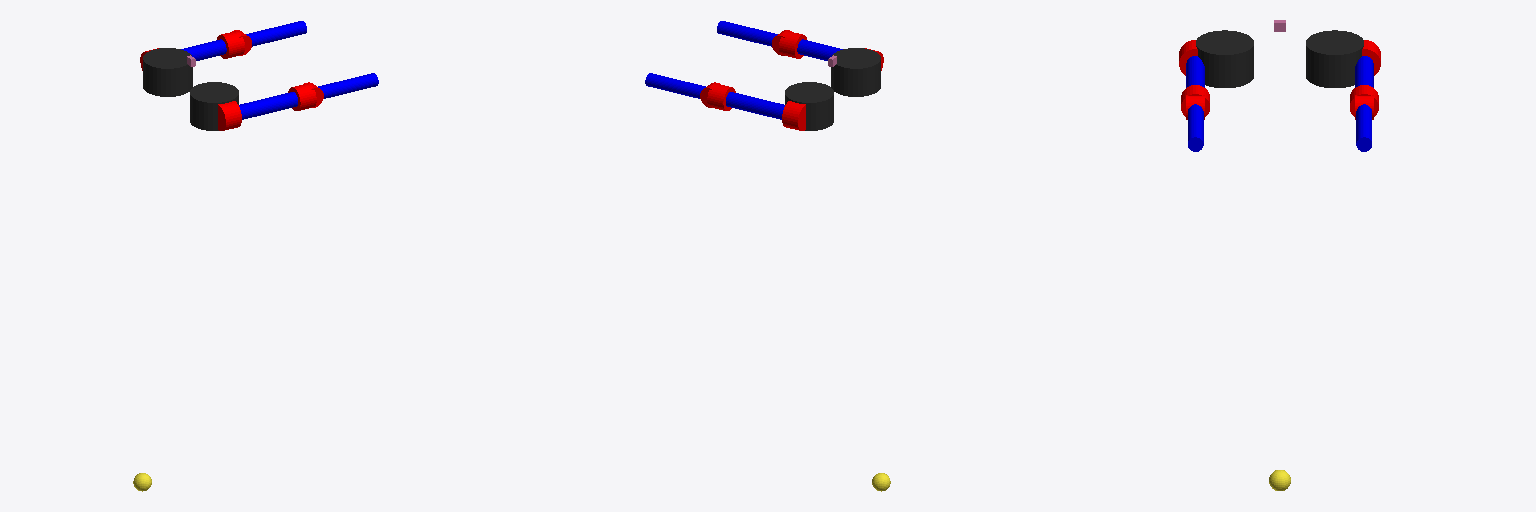
robot.urdf — mechelangelo_dual_arm:
<?xml version="1.0"?>
<robot name="mechelangelo_dual_arm">

  <!-- =========================
       MATERIALS
       ========================= -->
  <material name="red">
    <color rgba="1 0 0 1"/>
  </material>

  <material name="blue">
    <color rgba="0 0 1 1"/>
  </material>

  <material name="dark_grey">
    <color rgba="0.2 0.2 0.2 1"/>
  </material>

  <!-- =========================
       BASE
       ========================= -->
  <link name="base_link">
    <visual>
      <origin xyz="0 0 0" rpy="0 0 0"/>
      <geometry>
        <mesh filename="package://mechelangelo_description/meshes/base/base.dae" scale="1 1 1"/>
      </geometry>
    </visual>

    <collision>
      <origin xyz="0 0 0.10" rpy="0 0 0"/>
      <geometry>
        <mesh filename="package://mechelangelo_description/meshes/base/base.dae" scale="1 1 1"/>
      </geometry>
    </collision>

    <inertial>
      <origin xyz="0 0 0.10" rpy="0 0 0"/>
      <mass value="12.0"/>
      <inertia ixx="0.30" ixy="0.0" ixz="0.0" iyy="0.40" iyz="0.0" izz="0.50"/>
    </inertial>
  </link>

  <link name="left_wheel_link">
    <visual>
      <origin xyz="0.11091 0.20103 0.075" rpy="0 0 0"/>
      <geometry>
        <mesh filename="package://mechelangelo_description/meshes/wheels/wheel.dae" scale="1 1 1"/>
      </geometry>
    </visual>

    <collision>
      <origin xyz="0 0 0" rpy="1.5708 0 0"/>
      <geometry>
        <cylinder radius="0.075" length="0.03"/>
      </geometry>
    </collision>

    <inertial>
      <origin xyz="0 0 0" rpy="0 0 0"/>
      <mass value="1.0"/>
      <inertia ixx="0.002" ixy="0.0" ixz="0.0" iyy="0.001" iyz="0.0" izz="0.002"/>
    </inertial>
  </link>

  <link name="right_wheel_link">
    <visual>
      <origin xyz="0.11091 -0.20103 0.075" rpy="0 0 0"/>
      <geometry>
        <mesh filename="package://mechelangelo_description/meshes/wheels/wheel.dae" scale="1 1 1"/>
      </geometry>
    </visual>

    <collision>
      <origin xyz="0 0 0" rpy="1.5708 0 0"/>
      <geometry>
        <cylinder radius="0.075" length="0.03"/>
      </geometry>
    </collision>

    <inertial>
      <origin xyz="0 0 0" rpy="0 0 0"/>
      <mass value="1.0"/>
      <inertia ixx="0.002" ixy="0.0" ixz="0.0" iyy="0.001" iyz="0.0" izz="0.002"/>
    </inertial>
  </link>

  <joint name="left_wheel_joint" type="continuous">
    <parent link="base_link"/>
    <child link="left_wheel_link"/>
    <origin xyz="0 0 0" rpy="0 0 0"/>
    <axis xyz="0 1 0"/>
  </joint>

  <joint name="right_wheel_joint" type="continuous">
    <parent link="base_link"/>
    <child link="right_wheel_link"/>
    <origin xyz="0 0 0" rpy="0 0 0"/>
    <axis xyz="0 1 0"/>
  </joint>

  <link name="caster_link">
    <visual>
      <origin xyz="0 0 0" rpy="0 0 0"/>
      <geometry>
        <sphere radius="0.03"/>
      </geometry>
    </visual>

    <collision>
      <origin xyz="0 0 0" rpy="0 0 0"/>
      <geometry>
        <sphere radius="0.03"/>
      </geometry>
    </collision>

    <inertial>
      <origin xyz="0 0 0" rpy="0 0 0"/>
      <mass value="0.2"/>
      <inertia ixx="0.0001" ixy="0.0" ixz="0.0" iyy="0.0001" iyz="0.0" izz="0.0001"/>
    </inertial>
  </link>

  <joint name="caster_joint" type="fixed">
    <parent link="base_link"/>
    <child link="caster_link"/>
    <origin xyz="-0.18 0.0 0.03" rpy="0 0 0"/>
  </joint>

  <joint name="scan_joint" type="fixed">
    <parent link="base_link"/>
    <child link="base_scan"/>
    <origin xyz="0 0 0.280" rpy="0 0 0"/>
  </joint>

  <link name="base_scan">
    <visual>
      <origin xyz="0 0 0" rpy="0 0 0"/>
      <geometry>
        <mesh filename="package://mechelangelo_description/meshes/sensors/lds.stl" scale="0.001 0.001 0.001"/>
      </geometry>
    </visual>
    <inertial>
      <origin xyz="0 0 0" rpy="0 0 0"/>
      <mass value="0.114"/>
      <inertia ixx="0.001" ixy="0.0" ixz="0.0" iyy="0.001" iyz="0.0" izz="0.001"/>
    </inertial>
  </link>

  <joint name="imu_joint" type="fixed">
    <parent link="base_link"/>
    <child link="imu_link"/>
    <origin xyz="0.0 0 0.068" rpy="0 0 0"/>
  </joint>

  <link name="imu_link">
    <inertial>
      <origin xyz="0 0 0" rpy="0 0 0"/>
      <mass value="0.01"/>
      <inertia ixx="0.00001" ixy="0.0" ixz="0.0" iyy="0.00001" iyz="0.0" izz="0.00001"/>
    </inertial>
  </link>

  <joint name="camera_joint" type="fixed">
    <origin xyz="0 0 1.480" rpy="0 0 0"/>
    <parent link="base_link"/>
    <child link="camera_link"/>
  </joint>

  <link name="camera_link">
    <visual>
      <origin xyz="0 0 0" rpy="0 0 0"/>
      <geometry>
        <box size="0.015 0.030 0.027"/>
      </geometry>
    </visual>
    <collision>
      <origin xyz="0 0 0" rpy="0 0 0"/>
      <geometry>
        <box size="0.015 0.030 0.027"/>
      </geometry>
    </collision>
    <inertial>
      <origin xyz="0 0 0" rpy="0 0 0"/>
      <mass value="0.05"/>
      <inertia ixx="0.00001" ixy="0.0" ixz="0.0" iyy="0.00001" iyz="0.0" izz="0.00001"/>
    </inertial>
  </link>

  <joint name="camera_rgb_joint" type="fixed">
    <origin xyz="0 0 0" rpy="0 0 0"/>
    <parent link="camera_link"/>
    <child link="camera_rgb_frame"/>
  </joint>
  <link name="camera_rgb_frame"/>

  <joint name="camera_rgb_optical_joint" type="fixed">
    <origin xyz="0 0 0" rpy="-1.5708 0 -1.5708"/>
    <parent link="camera_rgb_frame"/>
    <child link="camera_rgb_optical_frame"/>
  </joint>
  <link name="camera_rgb_optical_frame"/>
  <!-- =========================
       LEFT ARM MOUNT
       ========================= -->
  <joint name="left_arm_mount_joint" type="fixed">
    <parent link="base_link"/>
    <child link="left_arm_base_link"/>
    <origin xyz="0.0 0.15 1.38" rpy="0 0 0"/>
  </joint>

  <link name="left_arm_base_link">
    <visual>
      <origin xyz="0 0 0" rpy="0 0 0"/>
      <geometry>
        <cylinder radius="0.08" length="0.10"/>
      </geometry>
      <material name="dark_grey"/>
    </visual>
    <collision>
      <origin xyz="0 0 0" rpy="0 0 0"/>
      <geometry>
        <cylinder radius="0.08" length="0.10"/>
      </geometry>
    </collision>
    <inertial>
      <origin xyz="0 0 0" rpy="0 0 0"/>
      <mass value="2.0"/>
      <inertia ixx="0.01" ixy="0.0" ixz="0.0" iyy="0.01" iyz="0.0" izz="0.01"/>
    </inertial>
  </link>

  <link name="left_joint1_link">
    <visual>
      <origin xyz="0 0 0" rpy="0 0 0"/>
      <geometry>
        <cylinder radius="0.04" length="0.06"/>
      </geometry>
      <material name="red"/>
    </visual>
    <collision>
      <origin xyz="0 0 0" rpy="0 0 0"/>
      <geometry>
        <cylinder radius="0.04" length="0.06"/>
      </geometry>
    </collision>
    <inertial>
      <origin xyz="0 0 0" rpy="0 0 0"/>
      <mass value="0.30"/>
      <inertia ixx="0.0005" ixy="0.0" ixz="0.0" iyy="0.0005" iyz="0.0" izz="0.0003"/>
    </inertial>
  </link>

  <joint name="left_joint1" type="revolute">
    <parent link="left_arm_base_link"/>
    <child link="left_joint1_link"/>
    <origin xyz="0 0 0" rpy="0 0 0"/>
    <axis xyz="0 0 1"/>
    <limit lower="-3.1416" upper="3.1416" effort="20" velocity="1.5"/>
    <dynamics damping="0.1"/>
  </joint>

  <link name="left_joint2_link">
    <visual>
      <origin xyz="0 0 0" rpy="0 1.5708 0"/>
      <geometry>
        <cylinder radius="0.045" length="0.06"/>
      </geometry>
      <material name="red"/>
    </visual>
    <collision>
      <origin xyz="0 0 0" rpy="0 1.5708 0"/>
      <geometry>
        <cylinder radius="0.045" length="0.06"/>
      </geometry>
    </collision>
    <inertial>
      <origin xyz="0 0 0" rpy="0 0 0"/>
      <mass value="0.25"/>
      <inertia ixx="0.0004" ixy="0.0" ixz="0.0" iyy="0.0004" iyz="0.0" izz="0.0002"/>
    </inertial>
  </link>

  <joint name="left_joint2" type="revolute">
    <parent link="left_joint1_link"/>
    <child link="left_joint2_link"/>
    <origin xyz="0 0.08 0" rpy="0 0 0"/>
    <axis xyz="0 1 0"/>
    <limit lower="-3.1416" upper="0" effort="15" velocity="1.5"/>
    <dynamics damping="0.1"/>
  </joint>

  <link name="left_link1">
    <visual>
      <origin xyz="0 0 0" rpy="0 1.5708 0"/>
      <geometry>
        <cylinder radius="0.025" length="0.28"/>
      </geometry>
      <material name="blue"/>
    </visual>
    <collision>
      <origin xyz="0 0 0" rpy="0 1.5708 0"/>
      <geometry>
        <cylinder radius="0.025" length="0.28"/>
      </geometry>
    </collision>
    <inertial>
      <origin xyz="0 0 0" rpy="0 0 0"/>
      <mass value="0.35"/>
      <inertia ixx="0.0020" ixy="0.0" ixz="0.0" iyy="0.0020" iyz="0.0" izz="0.0002"/>
    </inertial>
  </link>

  <joint name="left_joint2_to_link1" type="fixed">
    <parent link="left_joint2_link"/>
    <child link="left_link1"/>
    <origin xyz="0.14 0 0" rpy="0 0 0"/>
  </joint>

  <link name="left_joint3_link">
    <visual>
      <origin xyz="0 0 0" rpy="0 1.5708 0"/>
      <geometry>
        <cylinder radius="0.04" length="0.06"/>
      </geometry>
      <material name="red"/>
    </visual>
    <collision>
      <origin xyz="0 0 0" rpy="0 1.5708 0"/>
      <geometry>
        <cylinder radius="0.04" length="0.06"/>
      </geometry>
    </collision>
    <inertial>
      <origin xyz="0 0 0" rpy="0 0 0"/>
      <mass value="0.20"/>
      <inertia ixx="0.0003" ixy="0.0" ixz="0.0" iyy="0.0003" iyz="0.0" izz="0.00015"/>
    </inertial>
  </link>

  <joint name="left_joint3" type="revolute">
    <parent link="left_link1"/>
    <child link="left_joint3_link"/>
    <origin xyz="0.14 0 0" rpy="0 0 0"/>
    <axis xyz="1 0 0"/>
    <limit lower="-3.1416" upper="3.1416" effort="10" velocity="1.5"/>
    <dynamics damping="0.1"/>
  </joint>

  <link name="left_joint4_link">
    <visual>
      <origin xyz="0 0 0" rpy="1.5708 0 0"/>
      <geometry>
        <cylinder radius="0.035" length="0.05"/>
      </geometry>
      <material name="red"/>
    </visual>
    <collision>
      <origin xyz="0 0 0" rpy="1.5708 0 0"/>
      <geometry>
        <cylinder radius="0.035" length="0.05"/>
      </geometry>
    </collision>
    <inertial>
      <origin xyz="0 0 0" rpy="0 0 0"/>
      <mass value="0.15"/>
      <inertia ixx="0.0002" ixy="0.0" ixz="0.0" iyy="0.0002" iyz="0.0" izz="0.0001"/>
    </inertial>
  </link>

  <joint name="left_joint4" type="revolute">
    <parent link="left_joint3_link"/>
    <child link="left_joint4_link"/>
    <origin xyz="0.03 0 0" rpy="0 0 0"/>
    <axis xyz="0 1 0"/>
    <limit lower="-1.57" upper="1.57" effort="8" velocity="1.5"/>
    <dynamics damping="0.05"/>
  </joint>

  <link name="left_link2">
    <visual>
      <origin xyz="0 0 0" rpy="0 1.5708 0"/>
      <geometry>
        <cylinder radius="0.022" length="0.24"/>
      </geometry>
      <material name="blue"/>
    </visual>
    <collision>
      <origin xyz="0 0 0" rpy="0 1.5708 0"/>
      <geometry>
        <cylinder radius="0.022" length="0.24"/>
      </geometry>
    </collision>
    <inertial>
      <origin xyz="0 0 0" rpy="0 0 0"/>
      <mass value="0.25"/>
      <inertia ixx="0.0010" ixy="0.0" ixz="0.0" iyy="0.0010" iyz="0.0" izz="0.0001"/>
    </inertial>
  </link>

  <joint name="left_joint4_to_link2" type="fixed">
    <parent link="left_joint4_link"/>
    <child link="left_link2"/>
    <origin xyz="0.12 0 0" rpy="0 0 0"/>
  </joint>

  <!-- =========================
       RIGHT ARM MOUNT
       ========================= -->
  <joint name="right_arm_mount_joint" type="fixed">
    <parent link="base_link"/>
    <child link="right_arm_base_link"/>
    <origin xyz="0.0 -0.15 1.38" rpy="0 0 0"/>
  </joint>

  <link name="right_arm_base_link">
    <visual>
      <origin xyz="0 0 0" rpy="0 0 0"/>
      <geometry>
        <cylinder radius="0.08" length="0.10"/>
      </geometry>
      <material name="dark_grey"/>
    </visual>
    <collision>
      <origin xyz="0 0 0" rpy="0 0 0"/>
      <geometry>
        <cylinder radius="0.08" length="0.10"/>
      </geometry>
    </collision>
    <inertial>
      <origin xyz="0 0 0" rpy="0 0 0"/>
      <mass value="2.0"/>
      <inertia ixx="0.01" ixy="0.0" ixz="0.0" iyy="0.01" iyz="0.0" izz="0.01"/>
    </inertial>
  </link>

  <link name="right_joint1_link">
    <visual>
      <origin xyz="0 0 0" rpy="0 0 0"/>
      <geometry>
        <cylinder radius="0.04" length="0.06"/>
      </geometry>
      <material name="red"/>
    </visual>
    <collision>
      <origin xyz="0 0 0" rpy="0 0 0"/>
      <geometry>
        <cylinder radius="0.04" length="0.06"/>
      </geometry>
    </collision>
    <inertial>
      <origin xyz="0 0 0" rpy="0 0 0"/>
      <mass value="0.30"/>
      <inertia ixx="0.0005" ixy="0.0" ixz="0.0" iyy="0.0005" iyz="0.0" izz="0.0003"/>
    </inertial>
  </link>

  <joint name="right_joint1" type="revolute">
    <parent link="right_arm_base_link"/>
    <child link="right_joint1_link"/>
    <origin xyz="0 0 0" rpy="0 0 0"/>
    <axis xyz="0 0 1"/>
    <limit lower="-3.1416" upper="3.1416" effort="20" velocity="1.5"/>
    <dynamics damping="0.1"/>
  </joint>

  <link name="right_joint2_link">
    <visual>
      <origin xyz="0 0 0" rpy="0 1.5708 0"/>
      <geometry>
        <cylinder radius="0.045" length="0.06"/>
      </geometry>
      <material name="red"/>
    </visual>
    <collision>
      <origin xyz="0 0 0" rpy="0 1.5708 0"/>
      <geometry>
        <cylinder radius="0.045" length="0.06"/>
      </geometry>
    </collision>
    <inertial>
      <origin xyz="0 0 0" rpy="0 0 0"/>
      <mass value="0.25"/>
      <inertia ixx="0.0004" ixy="0.0" ixz="0.0" iyy="0.0004" iyz="0.0" izz="0.0002"/>
    </inertial>
  </link>

  <joint name="right_joint2" type="revolute">
    <parent link="right_joint1_link"/>
    <child link="right_joint2_link"/>
    <origin xyz="0 -0.08 0" rpy="0 0 0"/>
    <axis xyz="0 1 0"/>
    <limit lower="-3.1416" upper="0" effort="15" velocity="1.5"/>
    <dynamics damping="0.1"/>
  </joint>

  <link name="right_link1">
    <visual>
      <origin xyz="0 0 0" rpy="0 1.5708 0"/>
      <geometry>
        <cylinder radius="0.025" length="0.28"/>
      </geometry>
      <material name="blue"/>
    </visual>
    <collision>
      <origin xyz="0 0 0" rpy="0 1.5708 0"/>
      <geometry>
        <cylinder radius="0.025" length="0.28"/>
      </geometry>
    </collision>
    <inertial>
      <origin xyz="0 0 0" rpy="0 0 0"/>
      <mass value="0.35"/>
      <inertia ixx="0.0020" ixy="0.0" ixz="0.0" iyy="0.0020" iyz="0.0" izz="0.0002"/>
    </inertial>
  </link>

  <joint name="right_joint2_to_link1" type="fixed">
    <parent link="right_joint2_link"/>
    <child link="right_link1"/>
    <origin xyz="0.14 0 0" rpy="0 0 0"/>
  </joint>

  <link name="right_joint3_link">
    <visual>
      <origin xyz="0 0 0" rpy="0 1.5708 0"/>
      <geometry>
        <cylinder radius="0.04" length="0.06"/>
      </geometry>
      <material name="red"/>
    </visual>
    <collision>
      <origin xyz="0 0 0" rpy="0 1.5708 0"/>
      <geometry>
        <cylinder radius="0.04" length="0.06"/>
      </geometry>
    </collision>
    <inertial>
      <origin xyz="0 0 0" rpy="0 0 0"/>
      <mass value="0.20"/>
      <inertia ixx="0.0003" ixy="0.0" ixz="0.0" iyy="0.0003" iyz="0.0" izz="0.00015"/>
    </inertial>
  </link>

  <joint name="right_joint3" type="revolute">
    <parent link="right_link1"/>
    <child link="right_joint3_link"/>
    <origin xyz="0.14 0 0" rpy="0 0 0"/>
    <axis xyz="1 0 0"/>
    <limit lower="-3.1416" upper="3.1416" effort="10" velocity="1.5"/>
    <dynamics damping="0.1"/>
  </joint>

  <link name="right_joint4_link">
    <visual>
      <origin xyz="0 0 0" rpy="1.5708 0 0"/>
      <geometry>
        <cylinder radius="0.035" length="0.05"/>
      </geometry>
      <material name="red"/>
    </visual>
    <collision>
      <origin xyz="0 0 0" rpy="1.5708 0 0"/>
      <geometry>
        <cylinder radius="0.035" length="0.05"/>
      </geometry>
    </collision>
    <inertial>
      <origin xyz="0 0 0" rpy="0 0 0"/>
      <mass value="0.15"/>
      <inertia ixx="0.0002" ixy="0.0" ixz="0.0" iyy="0.0002" iyz="0.0" izz="0.0001"/>
    </inertial>
  </link>

  <joint name="right_joint4" type="revolute">
    <parent link="right_joint3_link"/>
    <child link="right_joint4_link"/>
    <origin xyz="0.03 0 0" rpy="0 0 0"/>
    <axis xyz="0 1 0"/>
    <limit lower="-1.57" upper="1.57" effort="8" velocity="1.5"/>
    <dynamics damping="0.05"/>
  </joint>

  <link name="right_link2">
    <visual>
      <origin xyz="0 0 0" rpy="0 1.5708 0"/>
      <geometry>
        <cylinder radius="0.022" length="0.24"/>
      </geometry>
      <material name="blue"/>
    </visual>
    <collision>
      <origin xyz="0 0 0" rpy="0 1.5708 0"/>
      <geometry>
        <cylinder radius="0.022" length="0.24"/>
      </geometry>
    </collision>
    <inertial>
      <origin xyz="0 0 0" rpy="0 0 0"/>
      <mass value="0.25"/>
      <inertia ixx="0.0010" ixy="0.0" ixz="0.0" iyy="0.0010" iyz="0.0" izz="0.0001"/>
    </inertial>
  </link>

  <joint name="right_joint4_to_link2" type="fixed">
    <parent link="right_joint4_link"/>
    <child link="right_link2"/>
    <origin xyz="0.12 0 0" rpy="0 0 0"/>
  </joint>

  <!-- =========================
       GAZEBO SETTINGS
       ========================= -->
  <gazebo reference="left_wheel_link"><mu1>1.0</mu1><mu2>1.0</mu2><kp>1000000.0</kp><kd>100.0</kd></gazebo>
  <gazebo reference="right_wheel_link"><mu1>1.0</mu1><mu2>1.0</mu2><kp>1000000.0</kp><kd>100.0</kd></gazebo>
  <gazebo reference="caster_link"><mu1>0.2</mu1><mu2>0.2</mu2></gazebo>

  <gazebo reference="left_arm_base_link"><gravity>false</gravity></gazebo>
  <gazebo reference="left_joint1_link"><gravity>false</gravity></gazebo>
  <gazebo reference="left_joint2_link"><gravity>false</gravity></gazebo>
  <gazebo reference="left_link1"><gravity>false</gravity></gazebo>
  <gazebo reference="left_joint3_link"><gravity>false</gravity></gazebo>
  <gazebo reference="left_joint4_link"><gravity>false</gravity></gazebo>
  <gazebo reference="left_link2"><gravity>false</gravity></gazebo>

  <gazebo reference="right_arm_base_link"><gravity>false</gravity></gazebo>
  <gazebo reference="right_joint1_link"><gravity>false</gravity></gazebo>
  <gazebo reference="right_joint2_link"><gravity>false</gravity></gazebo>
  <gazebo reference="right_link1"><gravity>false</gravity></gazebo>
  <gazebo reference="right_joint3_link"><gravity>false</gravity></gazebo>
  <gazebo reference="right_joint4_link"><gravity>false</gravity></gazebo>
  <gazebo reference="right_link2"><gravity>false</gravity></gazebo>

  <gazebo>
    <plugin name="gazebo_ros_diff_drive" filename="libgazebo_ros_diff_drive.so">
      <update_rate>50</update_rate>
      <left_joint>left_wheel_joint</left_joint>
      <right_joint>right_wheel_joint</right_joint>
      <wheel_separation>0.40206</wheel_separation>
      <wheel_diameter>0.15</wheel_diameter>
      <max_wheel_torque>20.0</max_wheel_torque>
      <max_wheel_acceleration>5.0</max_wheel_acceleration>
      <command_topic>cmd_vel</command_topic>
      <odometry_topic>odom</odometry_topic>
      <odometry_frame>odom</odometry_frame>
      <robot_base_frame>base_link</robot_base_frame>
      <publish_odom>true</publish_odom>
      <publish_odom_tf>true</publish_odom_tf>
      <publish_wheel_tf>false</publish_wheel_tf>
      <publishWheelJointState>true</publishWheelJointState>
    </plugin>
  </gazebo>

  <gazebo reference="base_scan">
    <sensor name="lidar_sensor" type="ray">
      <always_on>true</always_on>
      <visualize>true</visualize>
      <update_rate>10</update_rate>
      <ray>
        <scan>
          <horizontal>
            <samples>720</samples>
            <resolution>1</resolution>
            <min_angle>-3.14159</min_angle>
            <max_angle>3.14159</max_angle>
          </horizontal>
        </scan>
        <range>
          <min>0.12</min>
          <max>8.0</max>
          <resolution>0.01</resolution>
        </range>
      </ray>
      <plugin name="gazebo_ros_ray_sensor" filename="libgazebo_ros_ray_sensor.so">
        <ros><remapping>~/out:=scan</remapping></ros>
        <output_type>sensor_msgs/LaserScan</output_type>
        <frame_name>base_scan</frame_name>
      </plugin>
    </sensor>
  </gazebo>

  <gazebo reference="camera_link">
    <sensor name="camera_sensor" type="camera">
      <always_on>true</always_on>
      <visualize>true</visualize>
      <update_rate>15</update_rate>
      <camera>
        <horizontal_fov>1.3962634</horizontal_fov>
        <image><width>640</width><height>480</height><format>R8G8B8</format></image>
        <clip><near>0.05</near><far>20.0</far></clip>
      </camera>
      <plugin name="gazebo_ros_camera" filename="libgazebo_ros_camera.so">
        <frame_name>camera_rgb_optical_frame</frame_name>
        <ros>
          <remapping>~/image_raw:=camera/image_raw</remapping>
          <remapping>~/camera_info:=camera/camera_info</remapping>
        </ros>
      </plugin>
    </sensor>
  </gazebo>

</robot>

--- Facts derived from the render (not from the file) ---
3 views of the same robot in one strip: view 1: azimuth 30°, elevation 25°; view 2: azimuth 150°, elevation 25°; view 3: azimuth 270°, elevation 25° (orthographic).
Model mechelangelo_dual_arm with 23 links and 22 joints (8 revolute, 2 continuous, 12 fixed), rooted at base_link, posed all joints at 0.
Links seen in each view (by area): view 1: left_arm_base_link, right_arm_base_link, right_link1, left_link2, right_link2, right_joint2_link, left_link1; view 2: right_arm_base_link, left_arm_base_link, left_link1, left_link2, right_link2, left_joint2_link, right_link1; view 3: left_arm_base_link, right_arm_base_link, left_link2, right_link2.
Link boxes in pixels (x1=…): left_arm_base_link: x1=143, y1=48, x2=192, y2=96; right_arm_base_link: x1=190, y1=82, x2=238, y2=130; right_link1: x1=239, y1=92, x2=297, y2=119; left_link2: x1=246, y1=21, x2=306, y2=46; right_link2: x1=318, y1=73, x2=378, y2=98; right_joint2_link: x1=218, y1=101, x2=241, y2=130; left_link1: x1=181, y1=39, x2=226, y2=60; right_arm_base_link: x1=831, y1=48, x2=880, y2=96; left_arm_base_link: x1=785, y1=82, x2=833, y2=130; left_link1: x1=726, y1=92, x2=784, y2=119; left_link2: x1=645, y1=73, x2=705, y2=98; right_link2: x1=717, y1=21, x2=777, y2=46; left_joint2_link: x1=782, y1=101, x2=805, y2=130; right_link1: x1=797, y1=39, x2=842, y2=60; left_arm_base_link: x1=1306, y1=30, x2=1363, y2=87; right_arm_base_link: x1=1196, y1=30, x2=1253, y2=87; left_link2: x1=1356, y1=104, x2=1371, y2=151; right_link2: x1=1188, y1=104, x2=1203, y2=151.
Size in the robot's own frame: 0.76 by 0.55 by 1.49 metres.
0 mesh visuals loaded from 3 distinct referenced files (none loaded); not drawn: 4 (file found but could not be loaded).
